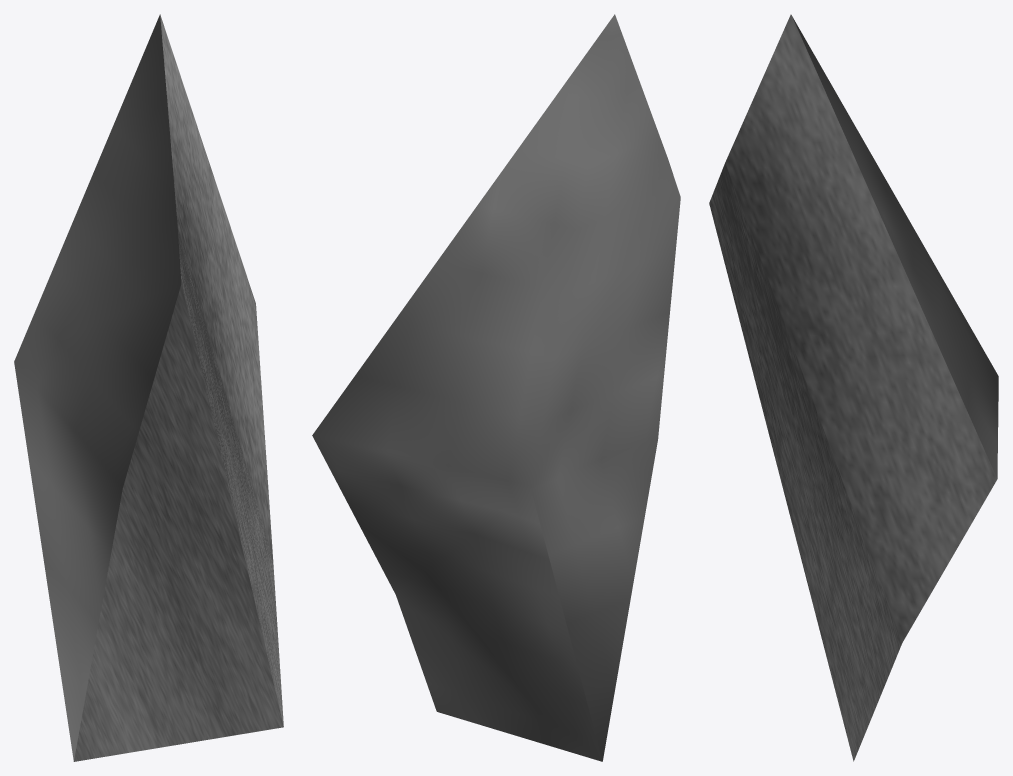
Rendered from leg_1_cell_014.fbx.
The picture shows the model from 3 angles, left to right: view 1: azimuth 30°, elevation 25°; view 2: azimuth 150°, elevation 25°; view 3: azimuth 270°, elevation 25°; orthographic projection. The views are drawn at different scales.
Visible parts, largest first — view 1: leg_1_cell.014; view 2: leg_1_cell.014; view 3: leg_1_cell.014.
Boxes of the visible parts, left/top/right/bottom form: leg_1_cell.014: left=14, top=14, right=283, bottom=761; leg_1_cell.014: left=312, top=14, right=680, bottom=761; leg_1_cell.014: left=709, top=14, right=998, bottom=761.
Size of the model in its own units: 3.62 by 10.51 by 4.06.
